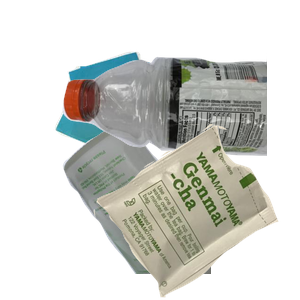glass: (60, 120, 300, 300)
paper: (52, 49, 209, 198)
plastic: (60, 53, 300, 201)
trash: (91, 124, 300, 300)
